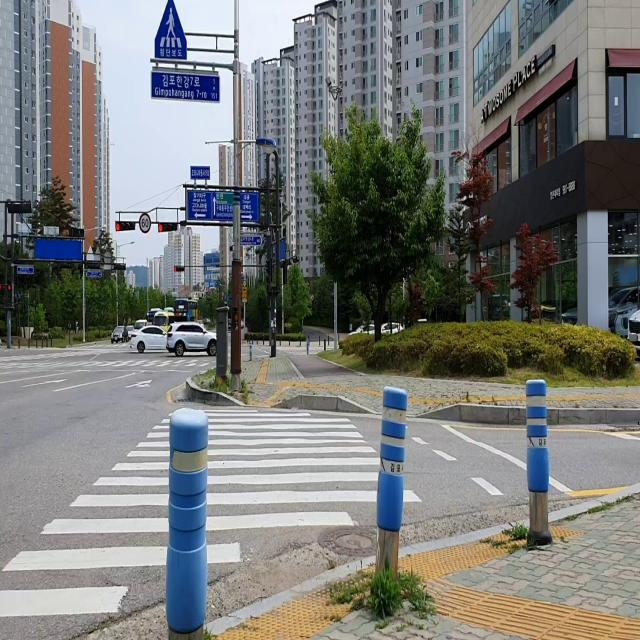횡단보도: (0, 405, 423, 619), (7, 355, 215, 373)
